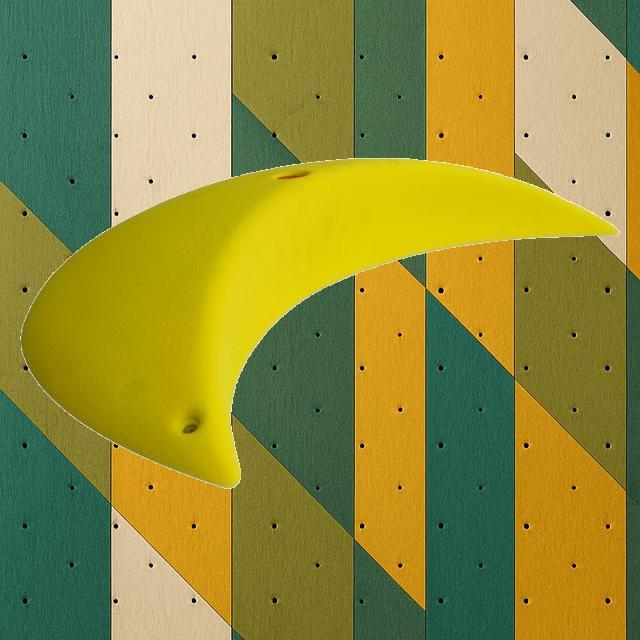Jug: (19, 156, 619, 488)
